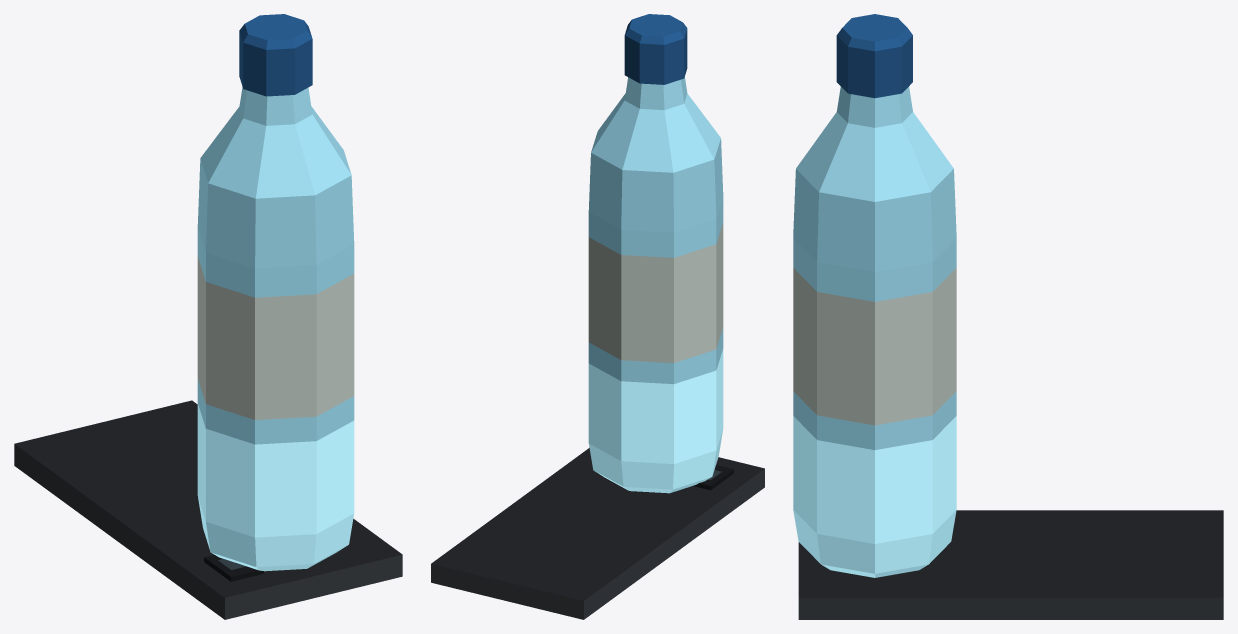
File: flashlight.glb
3 renders of one model, left to right at view 1: azimuth 30°, elevation 25°; view 2: azimuth 150°, elevation 25°; view 3: azimuth 270°, elevation 25°, orthographic. The views are drawn at different scales.
Parts seen in each view (by area): view 1: Phone_Flashlight_Bottle; view 2: Phone_Flashlight_Bottle; view 3: Phone_Flashlight_Bottle.
Part boxes in pixels (box(x1,y1,x2,y2)): Phone_Flashlight_Bottle: box(14, 14, 402, 619); Phone_Flashlight_Bottle: box(431, 14, 764, 619); Phone_Flashlight_Bottle: box(793, 14, 1223, 619).
Size of the model in its own units: 0.076 by 0.222 by 0.158.
1 material, 1 textured.
